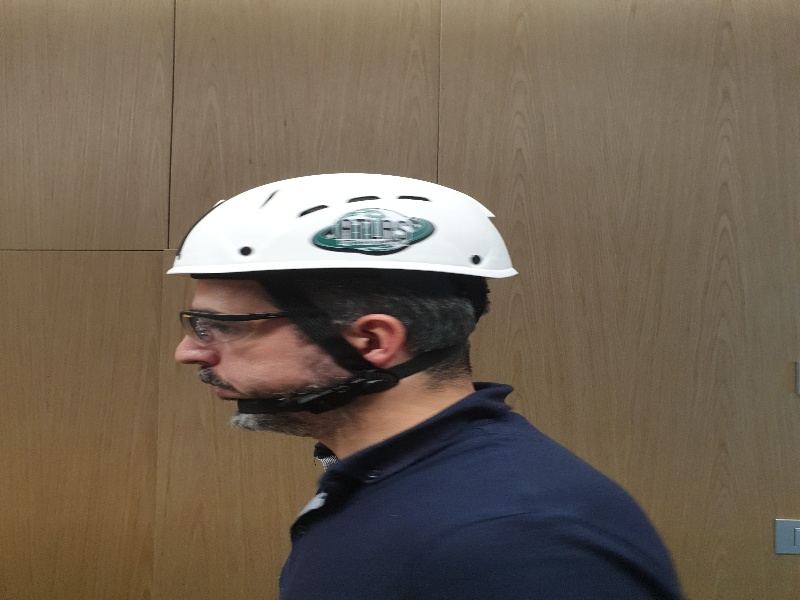Baret: (164, 172, 520, 285)
Gozluk: (178, 309, 316, 342)
